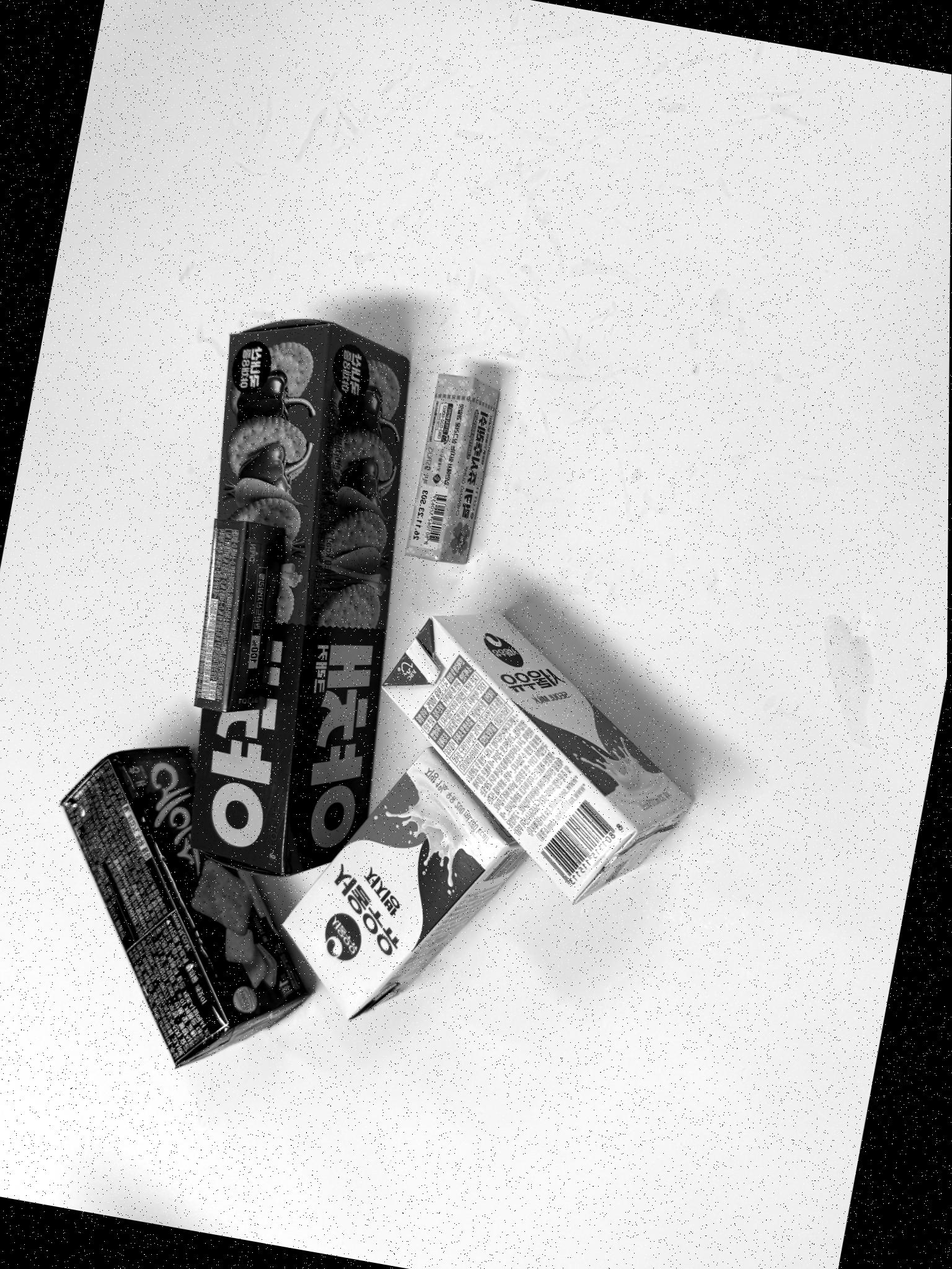cracker_ace: (62, 746, 305, 1066)
cracker_vege: (187, 322, 413, 874)
gum_green: (195, 519, 283, 712)
gum_yellow: (406, 374, 499, 565)
milk_blue: (284, 747, 525, 1017)
milk_green: (386, 613, 689, 903)
